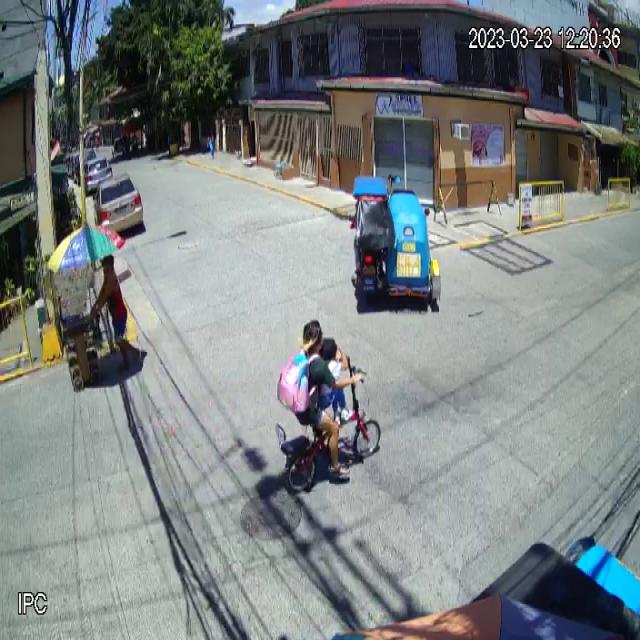Tricycle: (352, 175, 441, 305)
